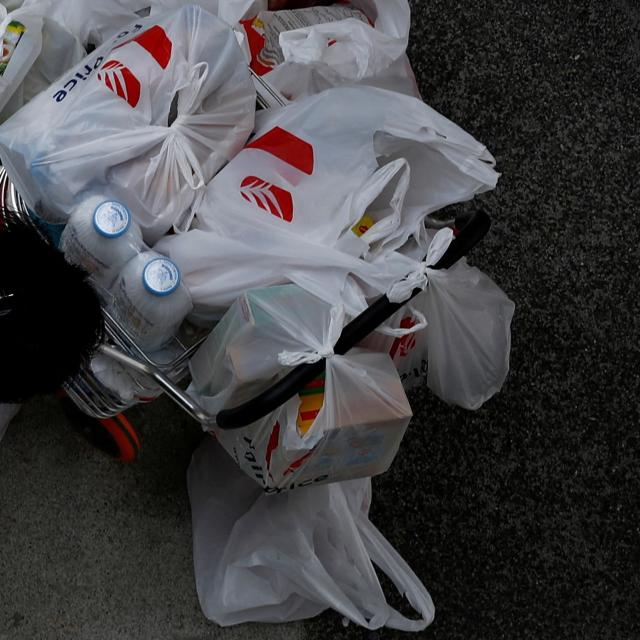HDPE Plastic: (60, 195, 149, 289), (110, 250, 192, 352)
Single-layer Plastic: (0, 5, 255, 244), (196, 85, 499, 260), (188, 436, 435, 631), (189, 284, 411, 492), (361, 228, 515, 410), (155, 229, 420, 323), (265, 0, 418, 101)
